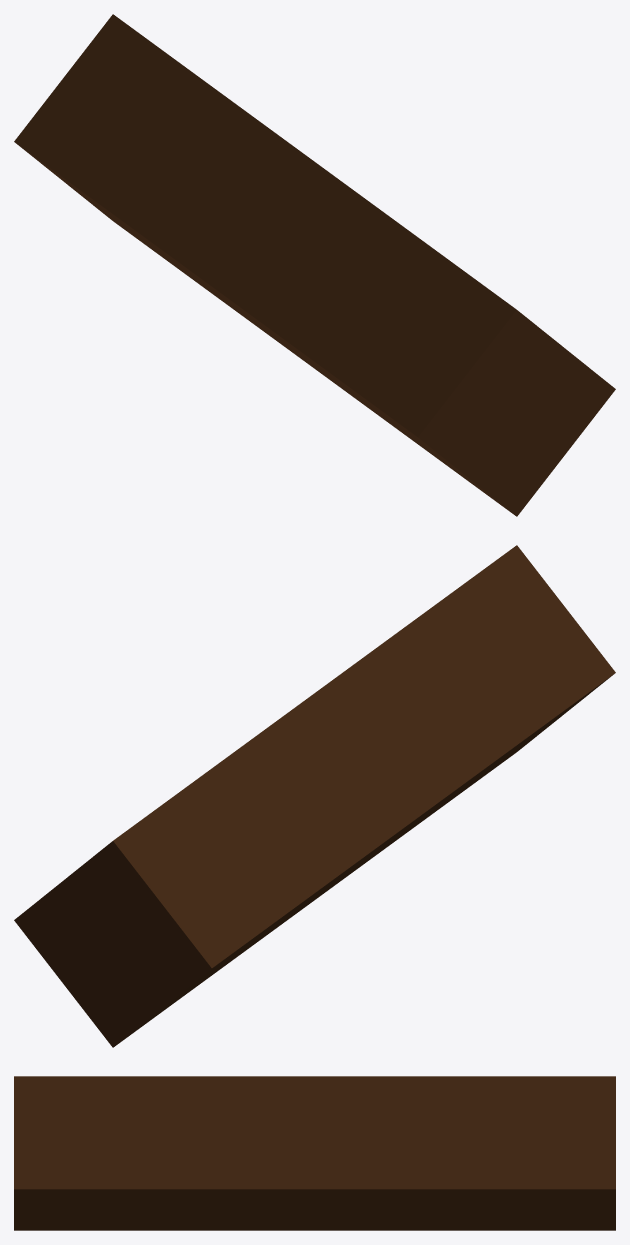
The model's file is RodA.fbx.
3 renders of one model, top to bottom at view 1: azimuth 30°, elevation 25°; view 2: azimuth 150°, elevation 25°; view 3: azimuth 270°, elevation 25°, orthographic. The views are drawn at different scales.
Visible parts, largest first — view 1: Cube.001; view 2: Cube.001; view 3: Cube.001.
Boxes of the visible parts, x1,y1,x2,y2 form: Cube.001: (14, 14, 615, 516); Cube.001: (14, 545, 615, 1047); Cube.001: (14, 1076, 615, 1230).
Bounding box in the file's own units: 56.57 × 56.57 × 200.
